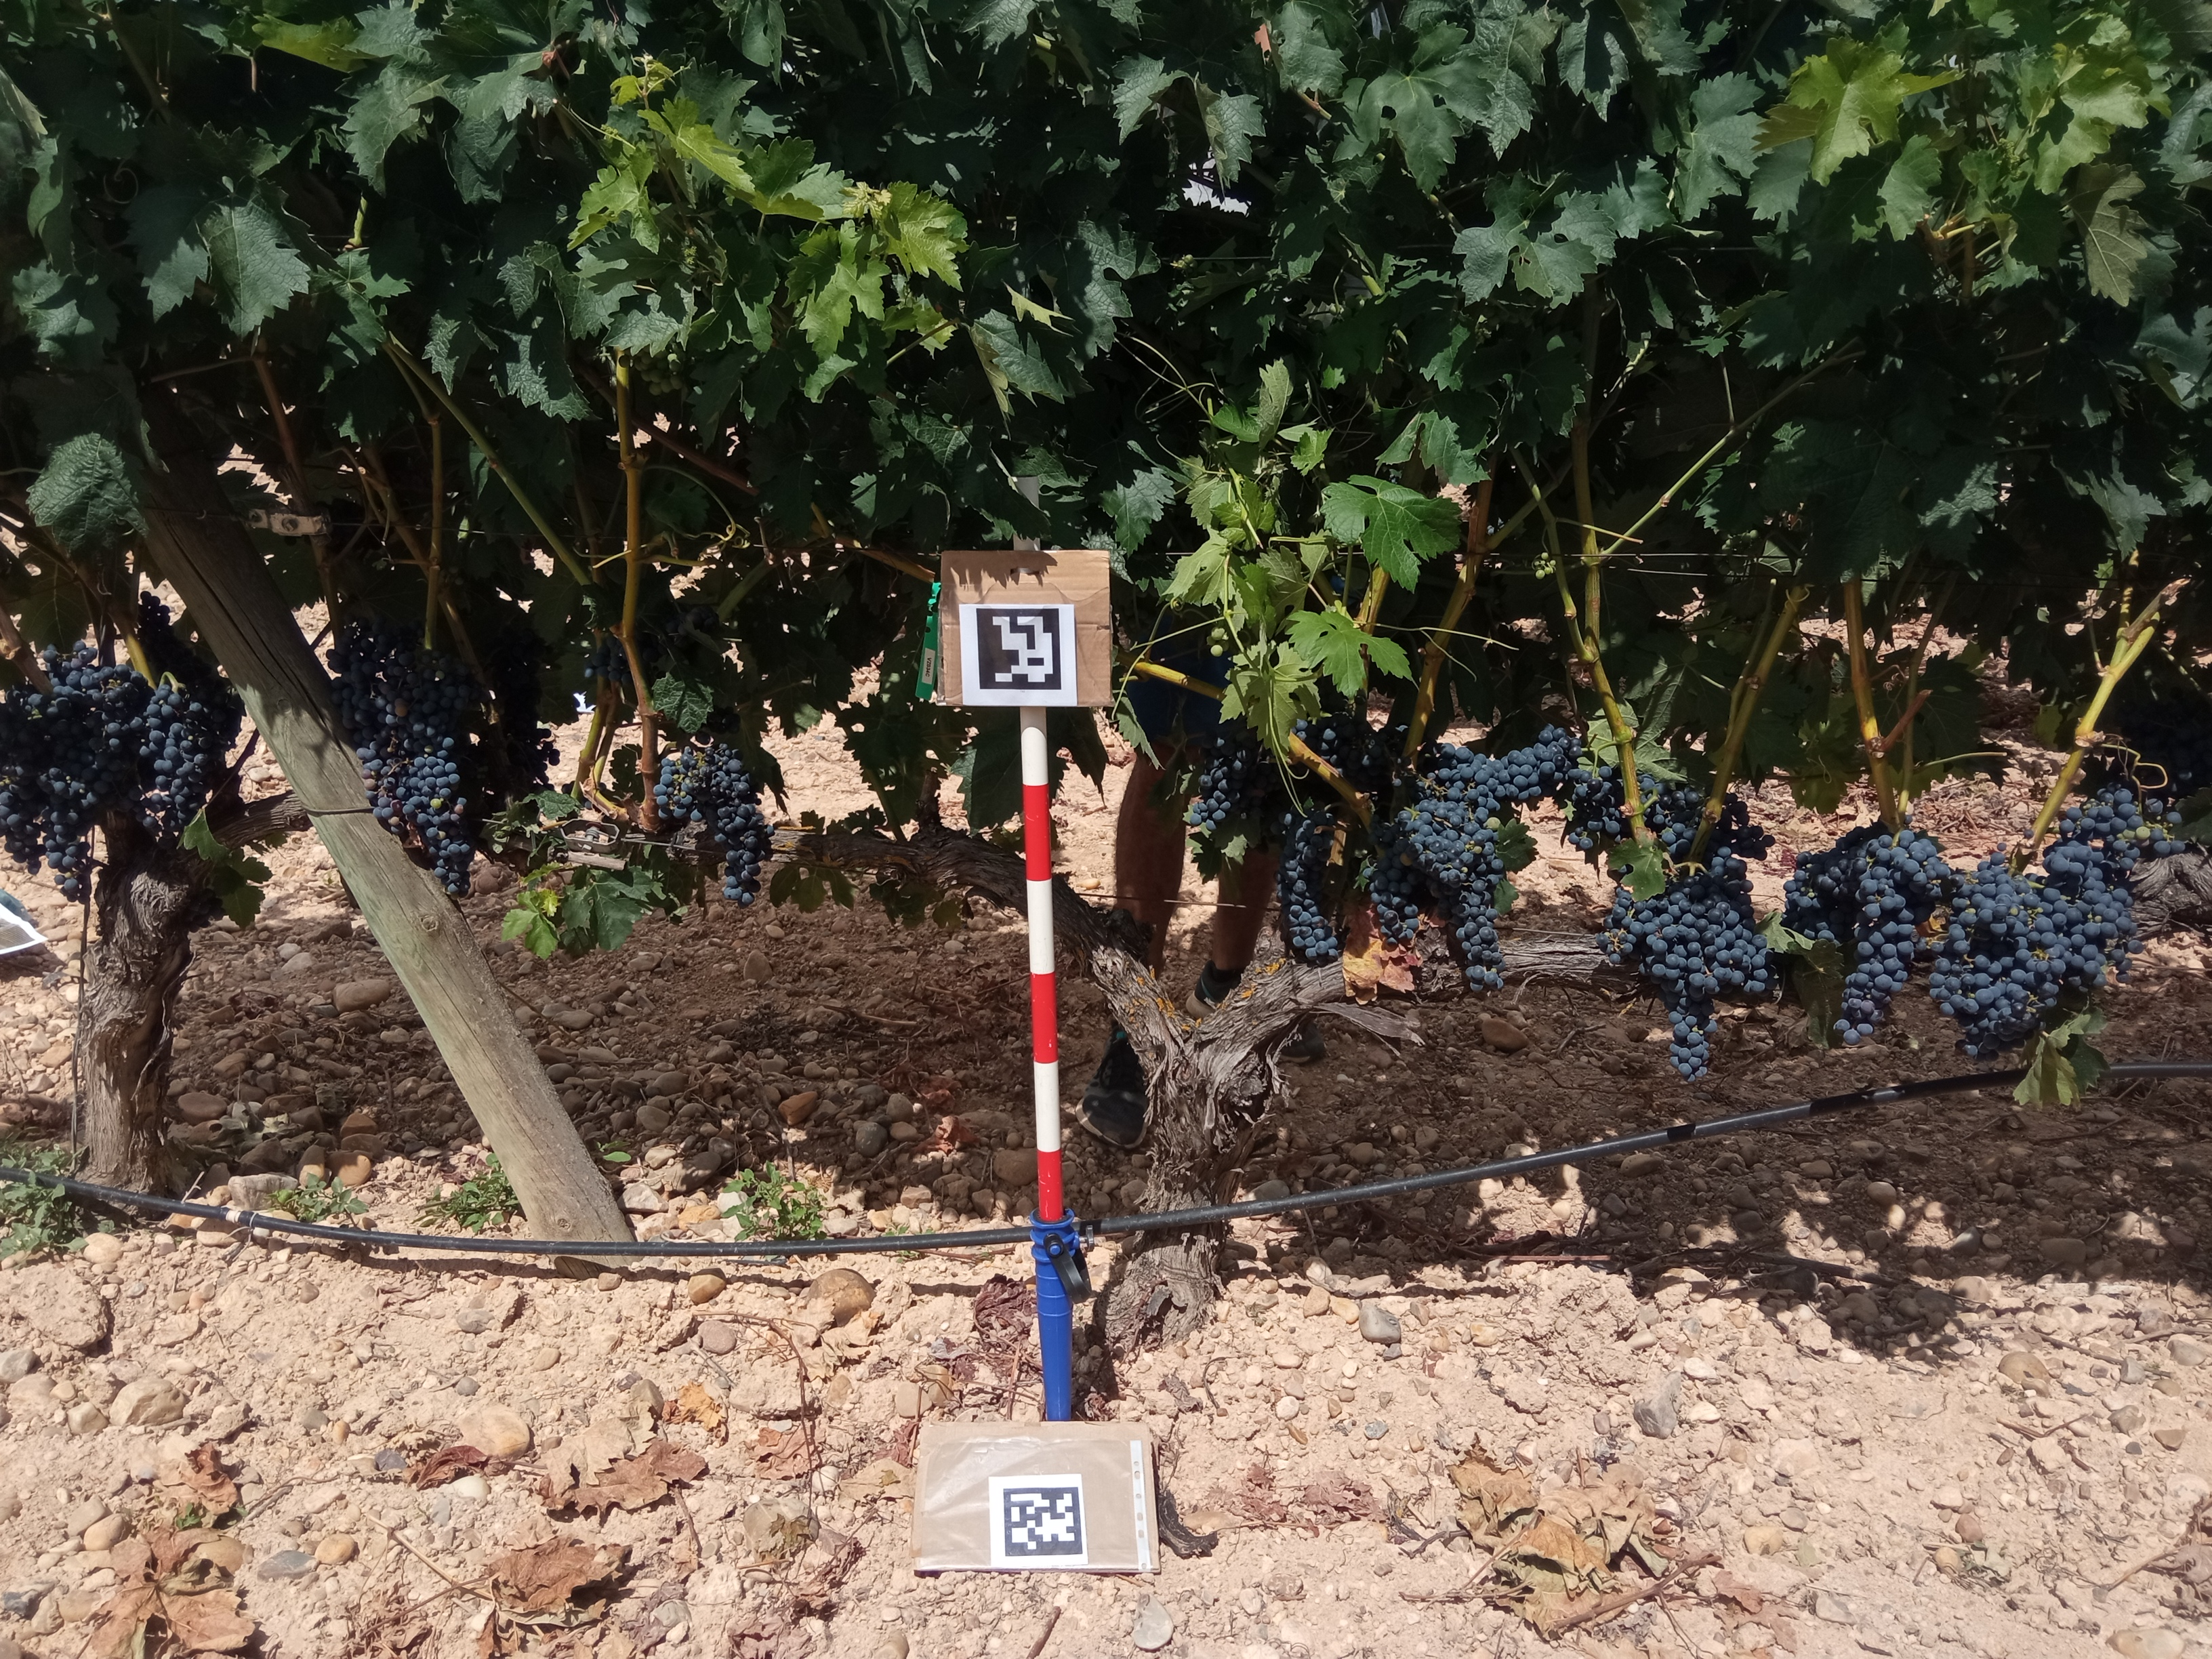grapes: (326, 617, 479, 901), (1932, 852, 2139, 1058), (0, 643, 143, 906), (1785, 821, 1925, 1044), (1597, 875, 1780, 997), (1402, 803, 1508, 992), (143, 678, 239, 847), (1421, 721, 1583, 802), (484, 629, 563, 788), (1270, 802, 1345, 962), (718, 742, 773, 903), (1292, 711, 1397, 796), (1186, 734, 1280, 826), (2064, 782, 2179, 852), (1360, 821, 1418, 950), (1709, 798, 1775, 890), (136, 589, 207, 671), (1663, 997, 1717, 1082), (643, 606, 718, 667), (1639, 775, 1696, 850), (1576, 769, 1625, 849), (658, 753, 702, 819), (582, 638, 627, 683), (1204, 626, 1231, 655)
